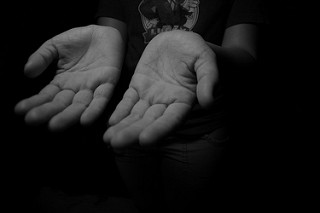palm: (138, 36, 204, 107), (53, 31, 111, 87)
